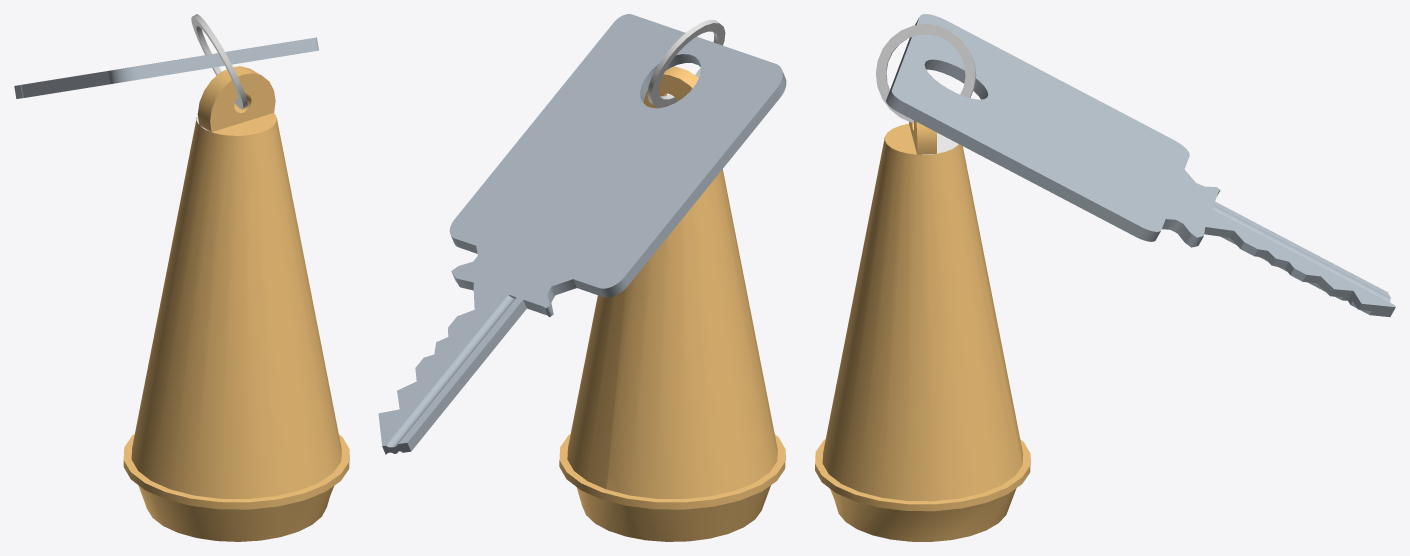
Rendered from Keychain.fbx.
3 views of the same model, side by side, from view 1: azimuth 30°, elevation 25°; view 2: azimuth 150°, elevation 25°; view 3: azimuth 270°, elevation 25° (orthographic). The views are drawn at different scales.
Visible parts, largest first — view 1: Mesh1; view 2: Mesh1; view 3: Mesh1.
Part boxes in pixels (x1,y1,x2,y2): Mesh1: [14, 14, 349, 541]; Mesh1: [378, 14, 786, 541]; Mesh1: [815, 14, 1395, 541].
Bounding box in the file's own units: 48.23 × 102 × 115.
